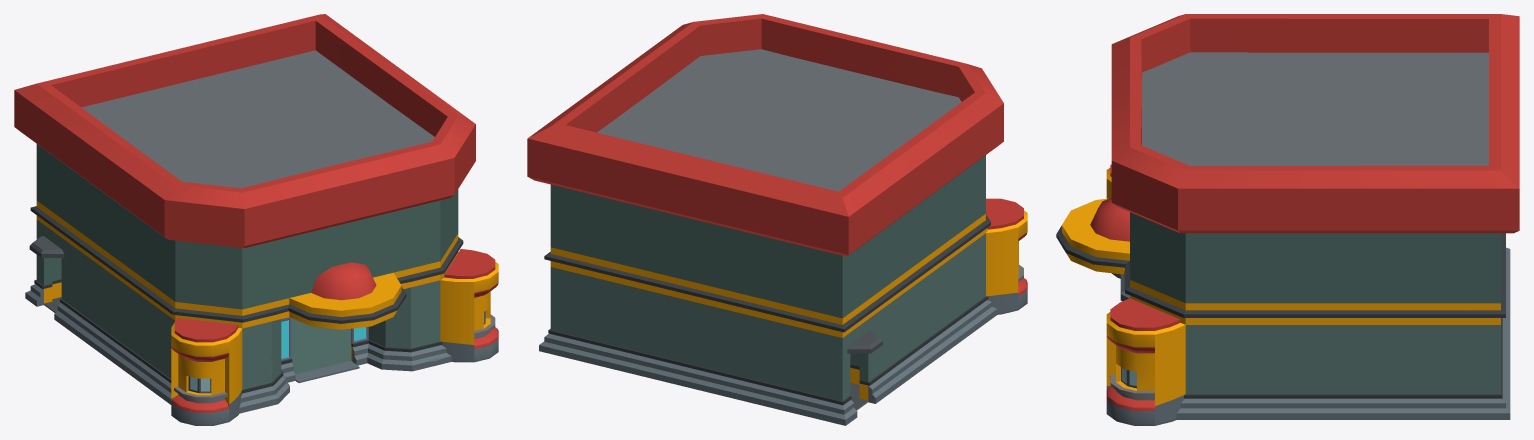
File: SM_Buildings_Commercial_02.fbx
The picture shows the model from 3 angles, left to right: view 1: azimuth 30°, elevation 25°; view 2: azimuth 150°, elevation 25°; view 3: azimuth 270°, elevation 25°; orthographic projection. The views are drawn at different scales.
Parts seen in each view (by area): view 1: SM_Buildings_Commercial_02; view 2: SM_Buildings_Commercial_02; view 3: SM_Buildings_Commercial_02.
Part boxes in pixels (x1=…): SM_Buildings_Commercial_02: x1=14, y1=14, x2=498, y2=425; SM_Buildings_Commercial_02: x1=527, y1=14, x2=1027, y2=425; SM_Buildings_Commercial_02: x1=1056, y1=14, x2=1519, y2=425.
Size of the model in its own units: 11.26 by 7.3 by 12.48.
